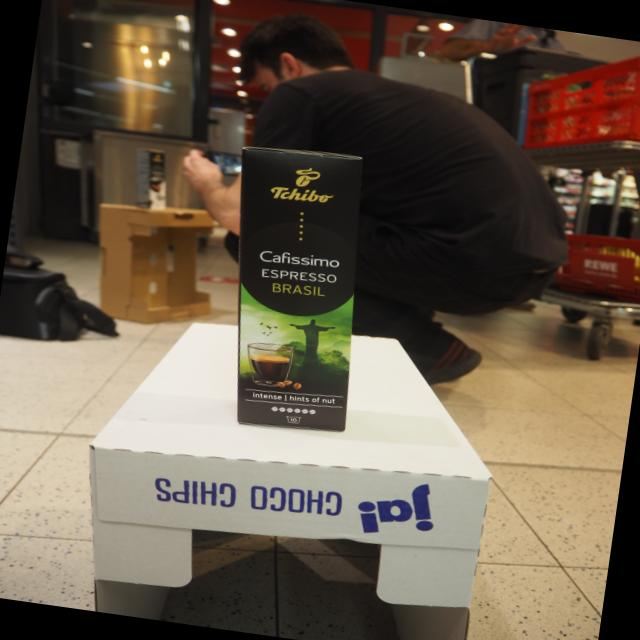Simo Es Brazil: (235, 143, 370, 435)
